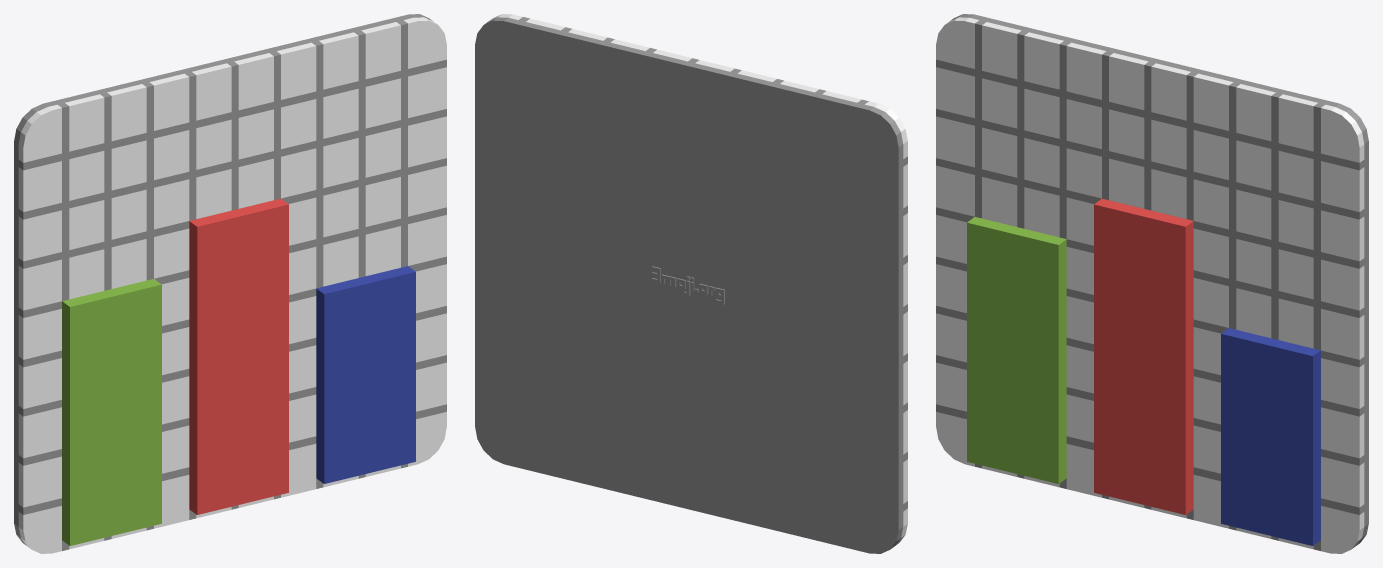
File: bar_chart.glb
The picture shows the model from 3 angles, left to right: view 1: azimuth 30°, elevation 25°; view 2: azimuth 150°, elevation 25°; view 3: azimuth 330°, elevation 25°; orthographic projection.
Parts seen in each view (by area): view 1: Plane.341; view 2: Plane.341; view 3: Plane.341.
Part boxes in pixels (<box>): Plane.341: <box>14,14,446,553</box>; Plane.341: <box>475,14,907,553</box>; Plane.341: <box>936,14,1368,553</box>.
Bounding box in the file's own units: 2.2 × 2.2 × 0.1622.
1 material, 1 textured.
